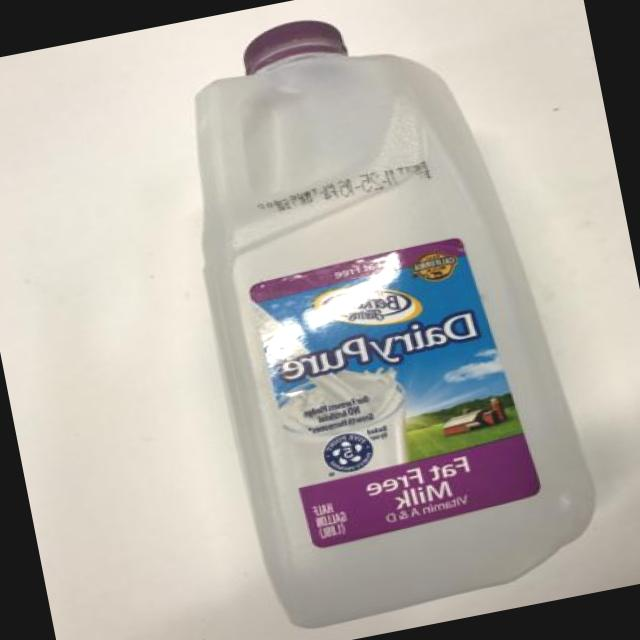plastic: (186, 0, 565, 613)
